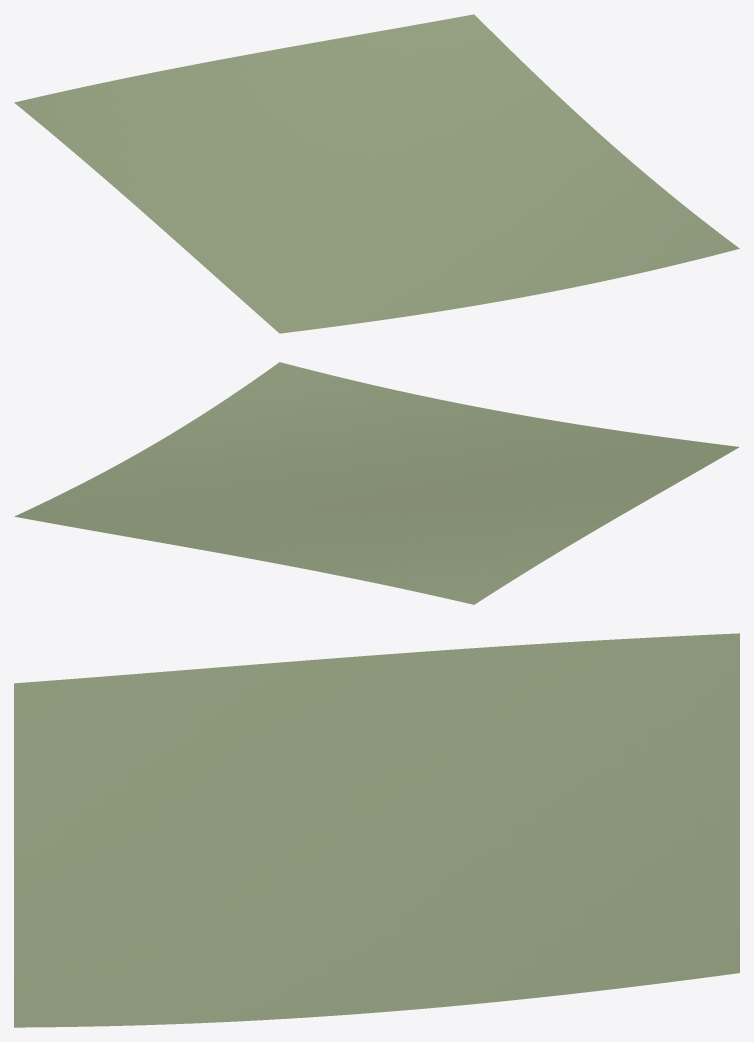
Rendered from alpine-8-13.glb.
3 renders of one model, top to bottom at view 1: azimuth 30°, elevation 25°; view 2: azimuth 150°, elevation 25°; view 3: azimuth 270°, elevation 25°, orthographic. The views are drawn at different scales.
Visible parts, largest first — view 1: alpine-8-13; view 2: alpine-8-13; view 3: alpine-8-13.
Boxes of the visible parts, x1=… form: alpine-8-13: x1=14, y1=14, x2=739, y2=333; alpine-8-13: x1=14, y1=362, x2=739, y2=604; alpine-8-13: x1=14, y1=633, x2=739, y2=1027.
Bounding box in the file's own units: 256 × 34.26 × 256.
